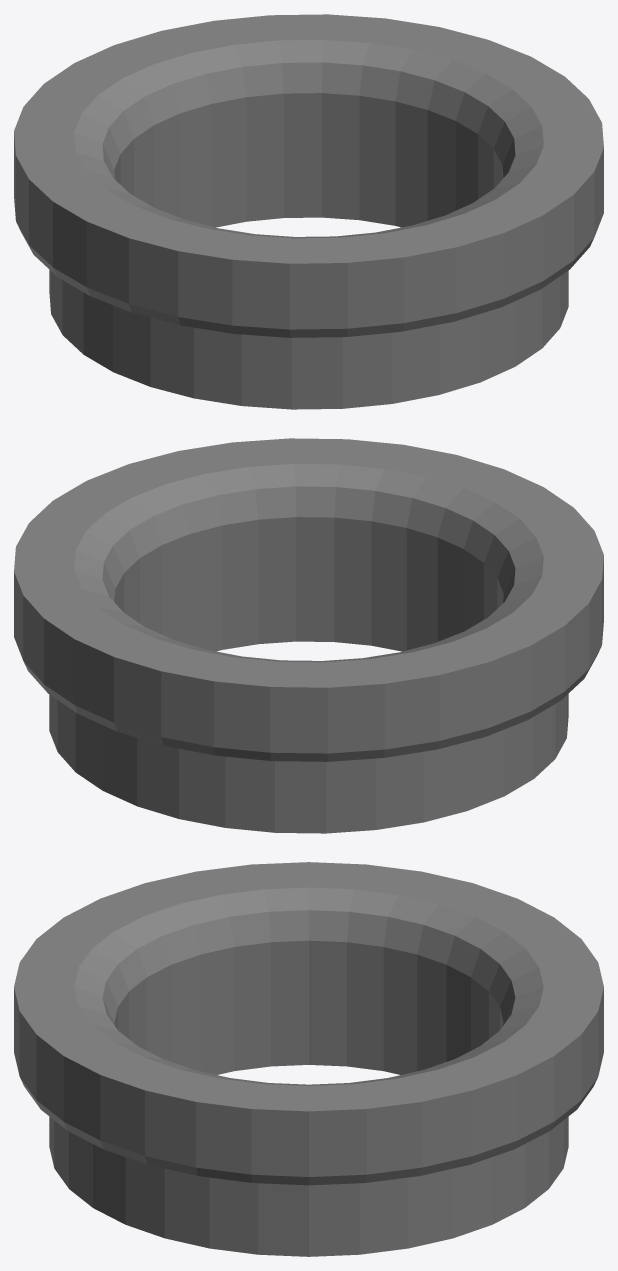
File: CasingHead.glb
The picture shows the model from 3 angles, top to bottom: view 1: azimuth 30°, elevation 25°; view 2: azimuth 150°, elevation 25°; view 3: azimuth 270°, elevation 25°; orthographic projection.
Visible parts, largest first — view 1: Head; view 2: Head; view 3: Head.
Boxes of the visible parts, x1,y1,x2,y2 form: Head: (14,14,603,409); Head: (14,438,603,833); Head: (14,862,603,1256).
Bounding box in the file's own units: 3.33 × 1 × 3.33.
Materials: 1 (1 with a texture image).
